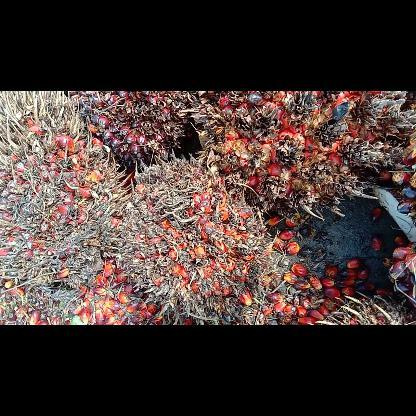Terlalu masak: (188, 90, 414, 226), (107, 154, 286, 324), (0, 91, 137, 302), (72, 90, 200, 168)
